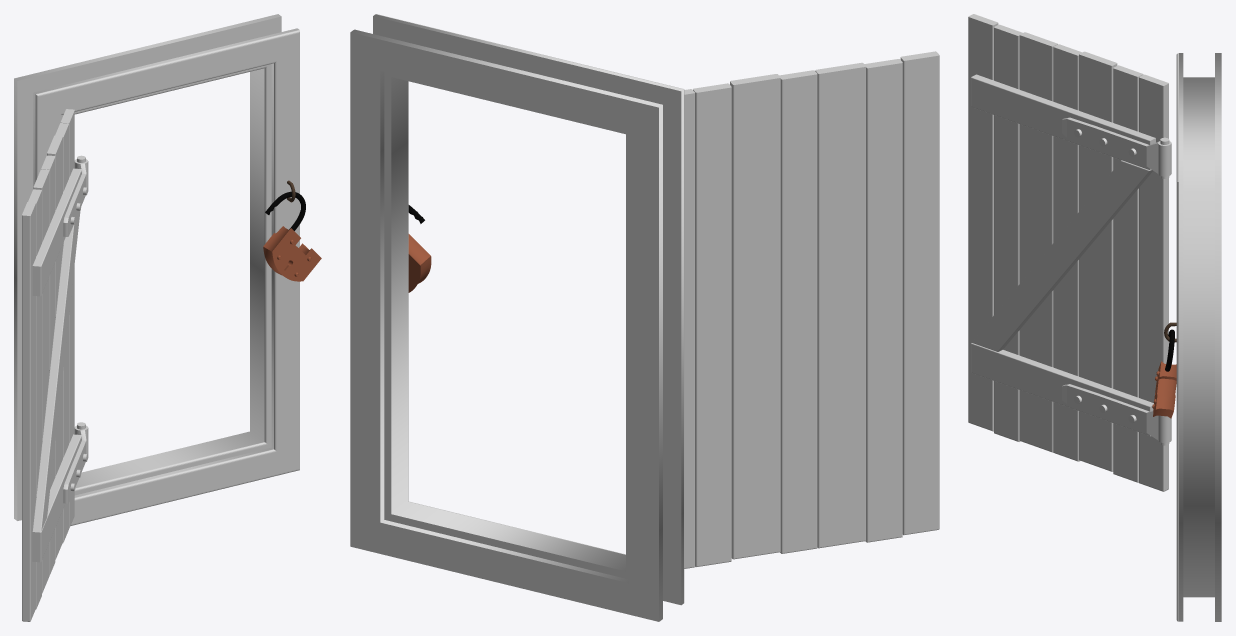
File: tramp door.FBX
The picture shows the model from 3 angles, left to right: view 1: azimuth 30°, elevation 25°; view 2: azimuth 150°, elevation 25°; view 3: azimuth 270°, elevation 25°; orthographic projection. The views are drawn at different scales.
Visible parts, largest first — view 1: Line02, Plane09, cadnav.com, Cylinder07, Cylinder40; view 2: Plane09, Line02, cadnav.com; view 3: Plane09, Line02, Cylinder40, Cylinder07, cadnav.com.
Part boxes in pixels (left/top/right/bottom): Line02: left=14, top=14, right=299, bottom=525; Plane09: left=22, top=109, right=81, bottom=621; cadnav.com: left=263, top=191, right=321, bottom=281; Cylinder07: left=63, top=422, right=88, bottom=503; Cylinder40: left=63, top=155, right=88, bottom=236; Plane09: left=684, top=51, right=939, bottom=568; Line02: left=350, top=14, right=684, bottom=621; cadnav.com: left=408, top=205, right=431, bottom=292; Plane09: left=968, top=14, right=1168, bottom=491; Line02: left=1176, top=53, right=1221, bottom=621; Cylinder40: left=1062, top=117, right=1171, bottom=178; Cylinder07: left=1062, top=384, right=1171, bottom=445; cadnav.com: left=1152, top=329, right=1176, bottom=418.
Size of the model in its own units: 50755 by 54629 by 28502.
